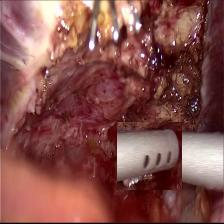Irrigator: (117, 122, 182, 190)
